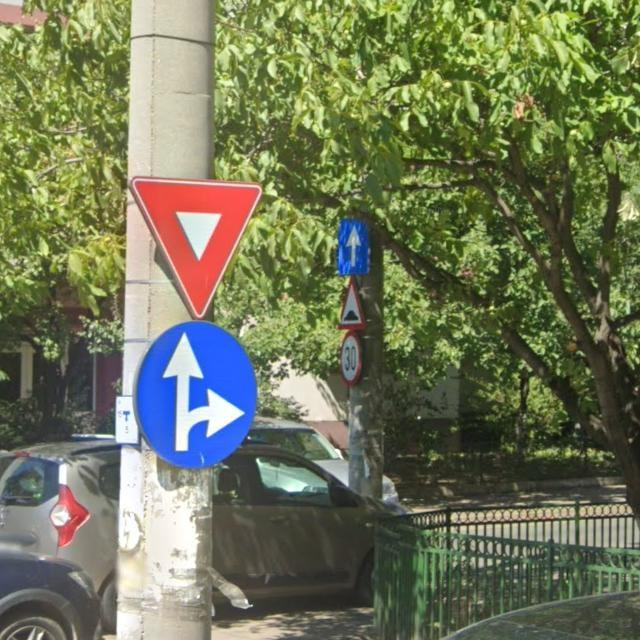forb_speed_over_30: (340, 329, 362, 387)
prio_give_way: (131, 174, 261, 320)
